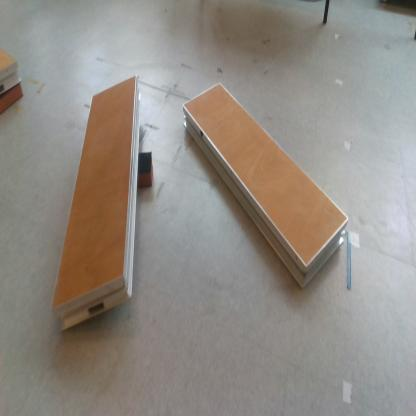Stairs: (185, 82, 350, 292), (51, 77, 143, 334), (1, 47, 22, 97)
